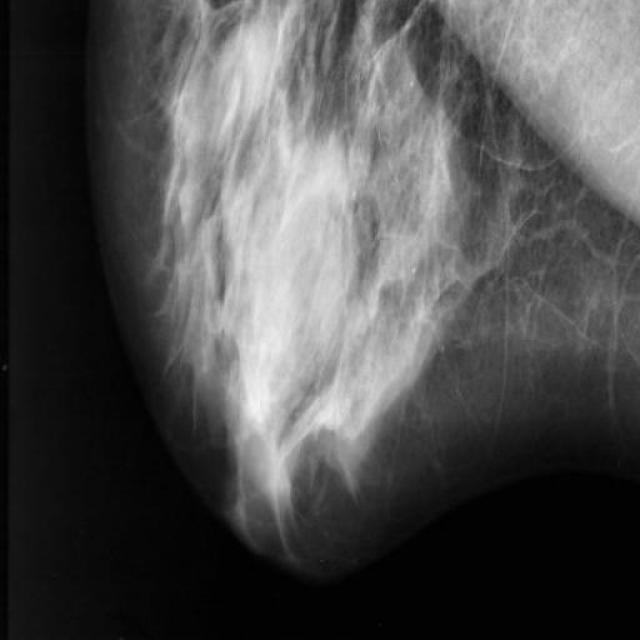cancer: (283, 365, 362, 489)
